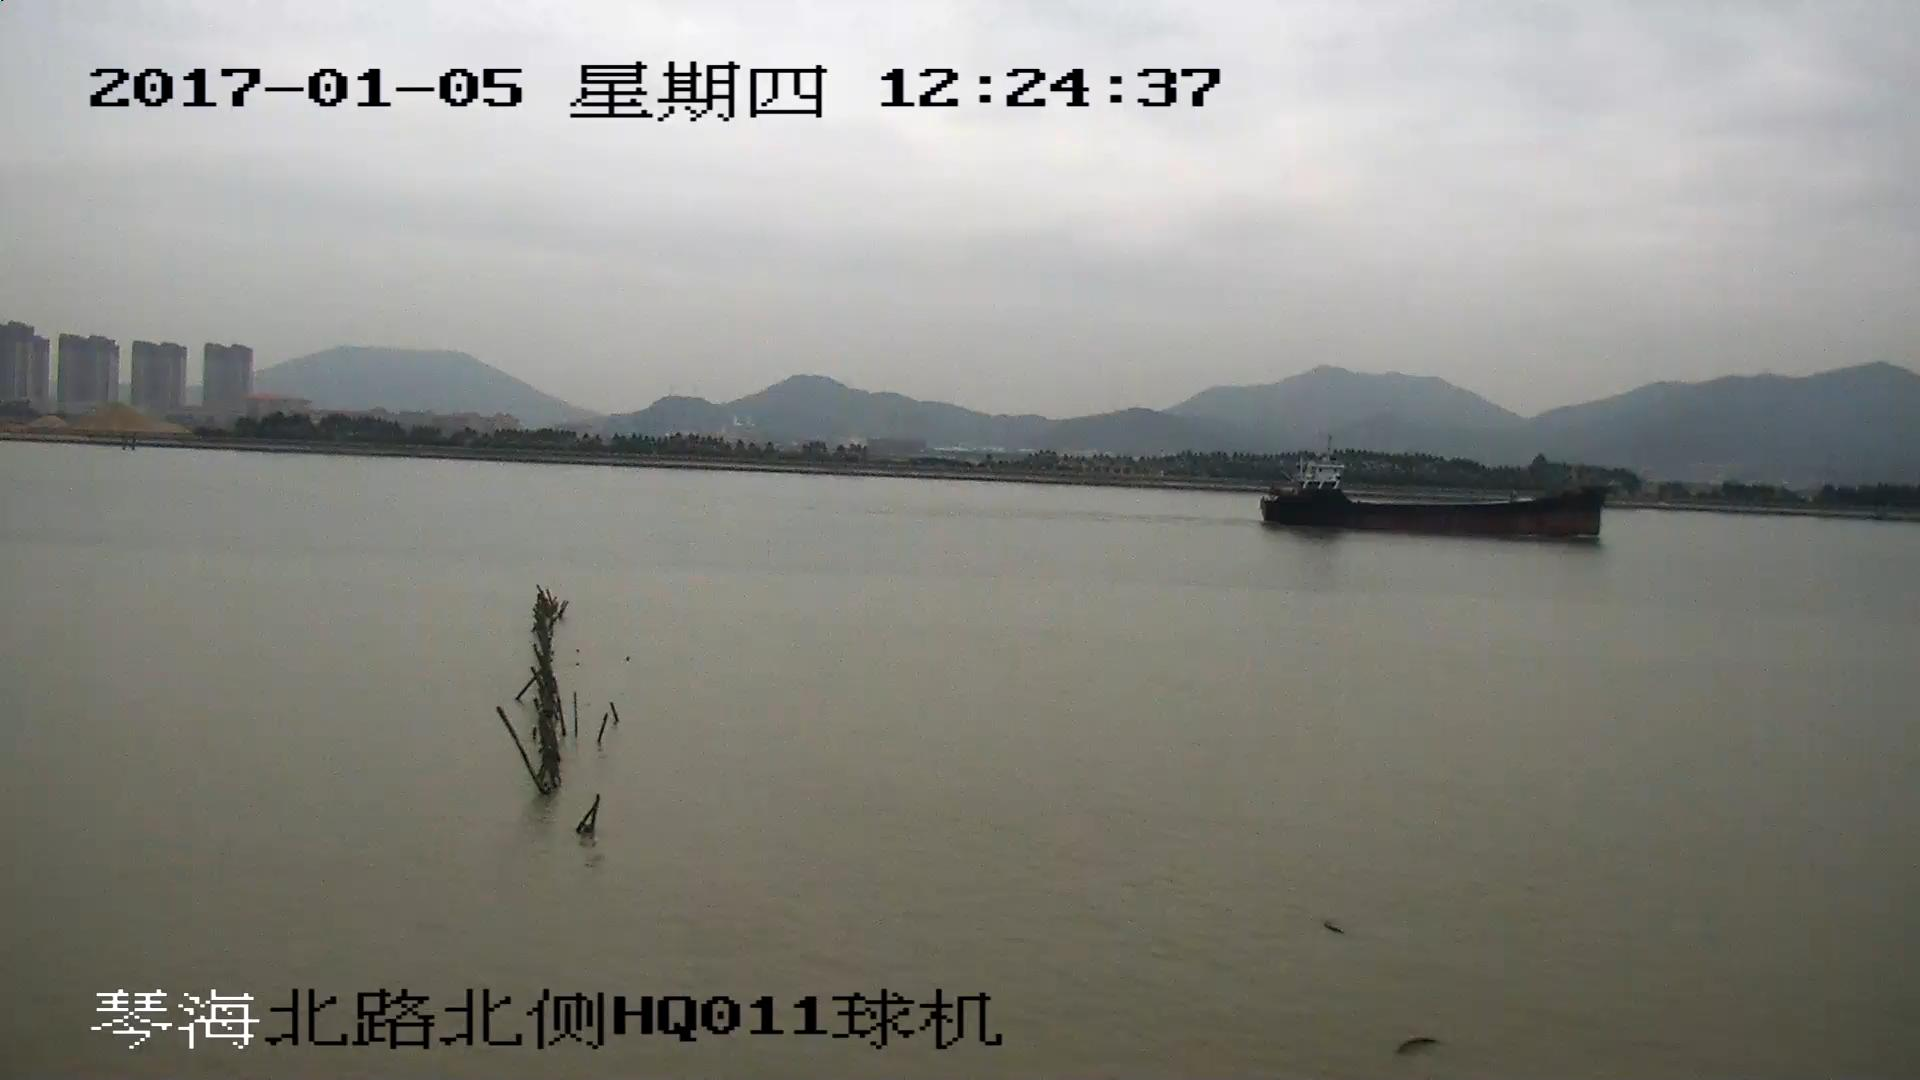general cargo ship: (1257, 449, 1616, 539)
